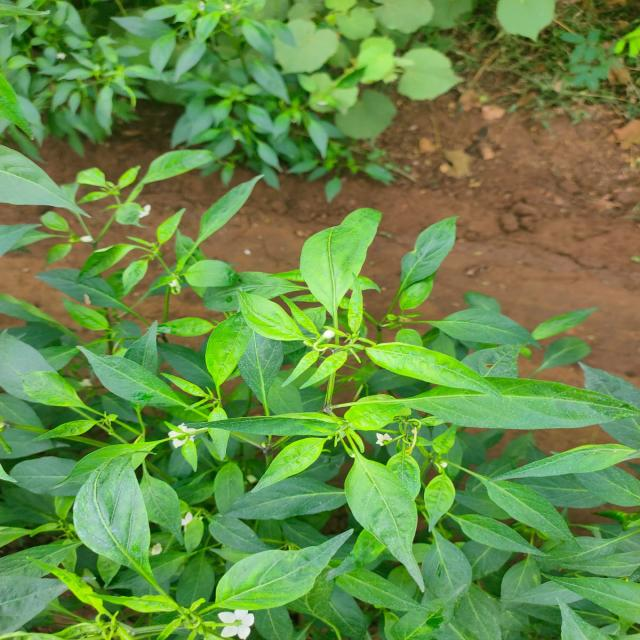Mosaic_virus: (0, 152, 640, 640), (3, 0, 323, 162)
